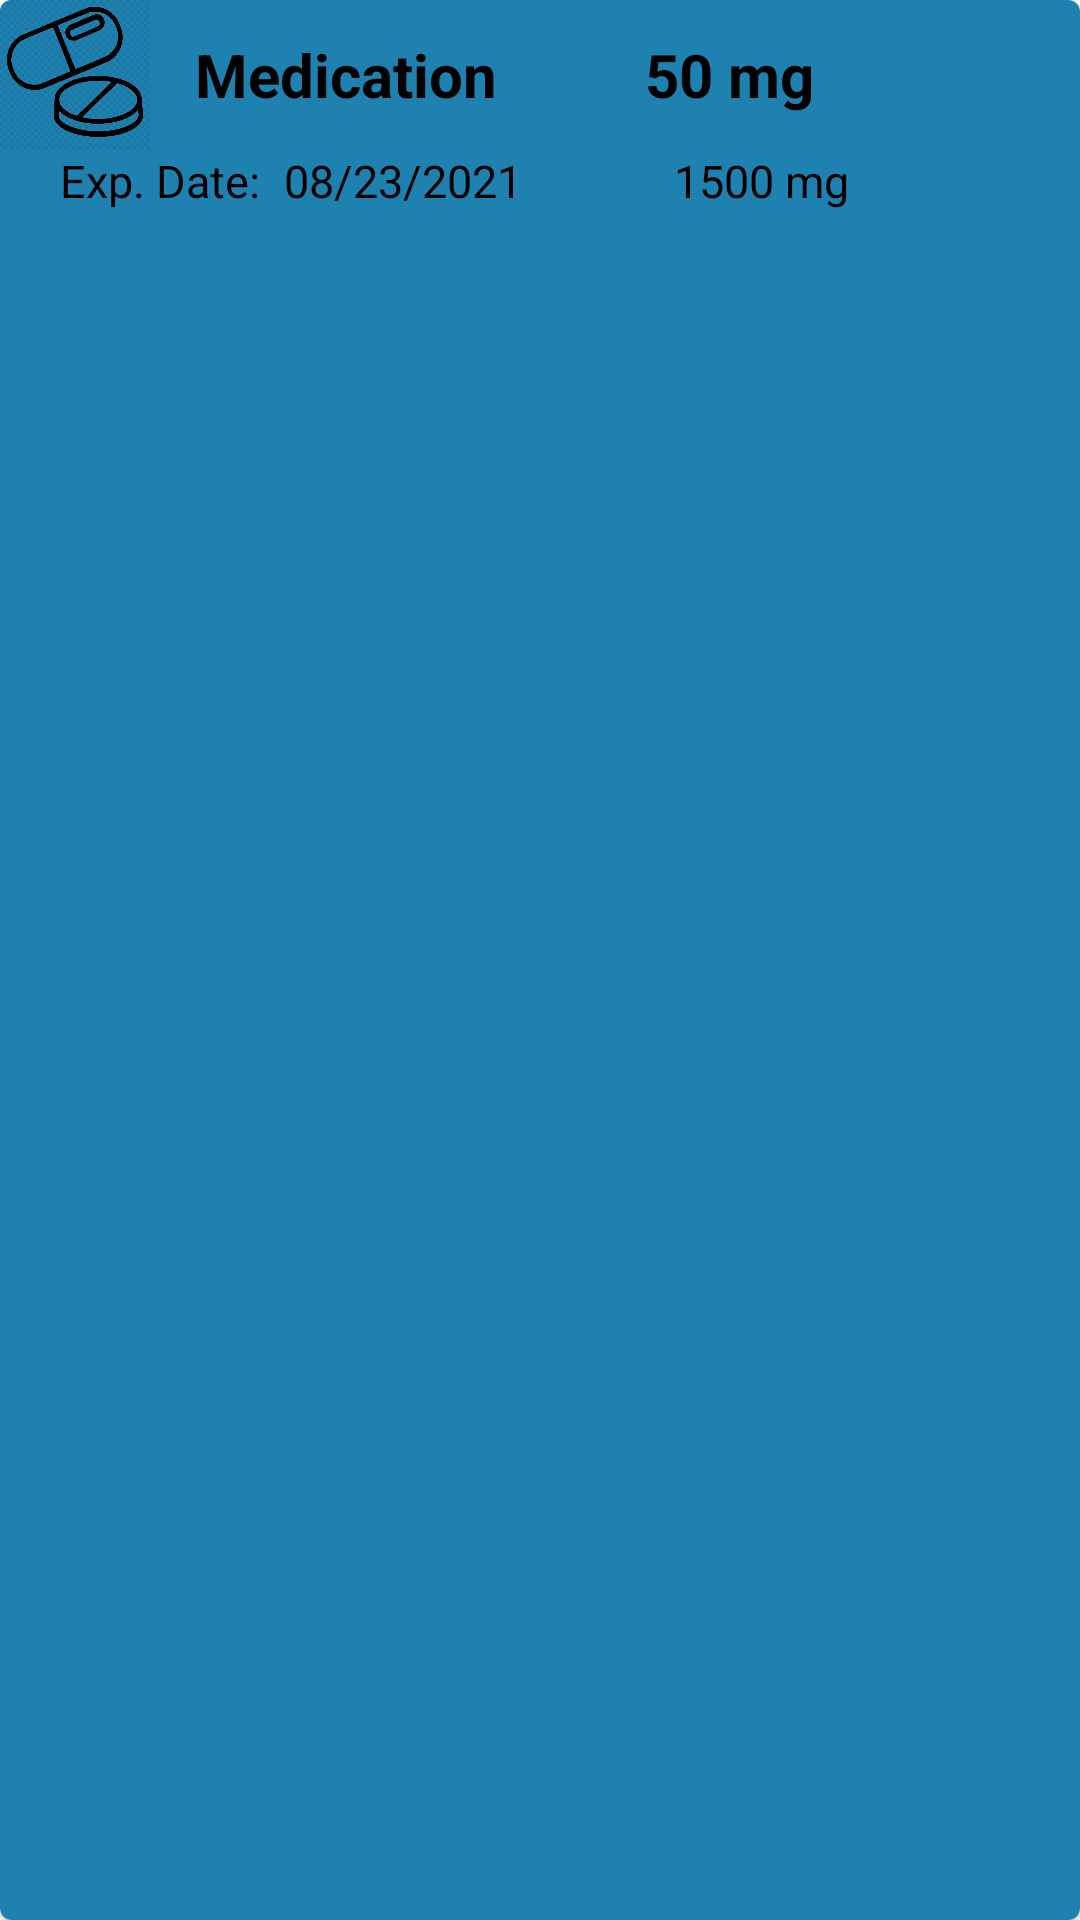

Screen size 1080px x 1920px. Icon name, then its center in pixels as [x,y]:
medspic: [71,68]
